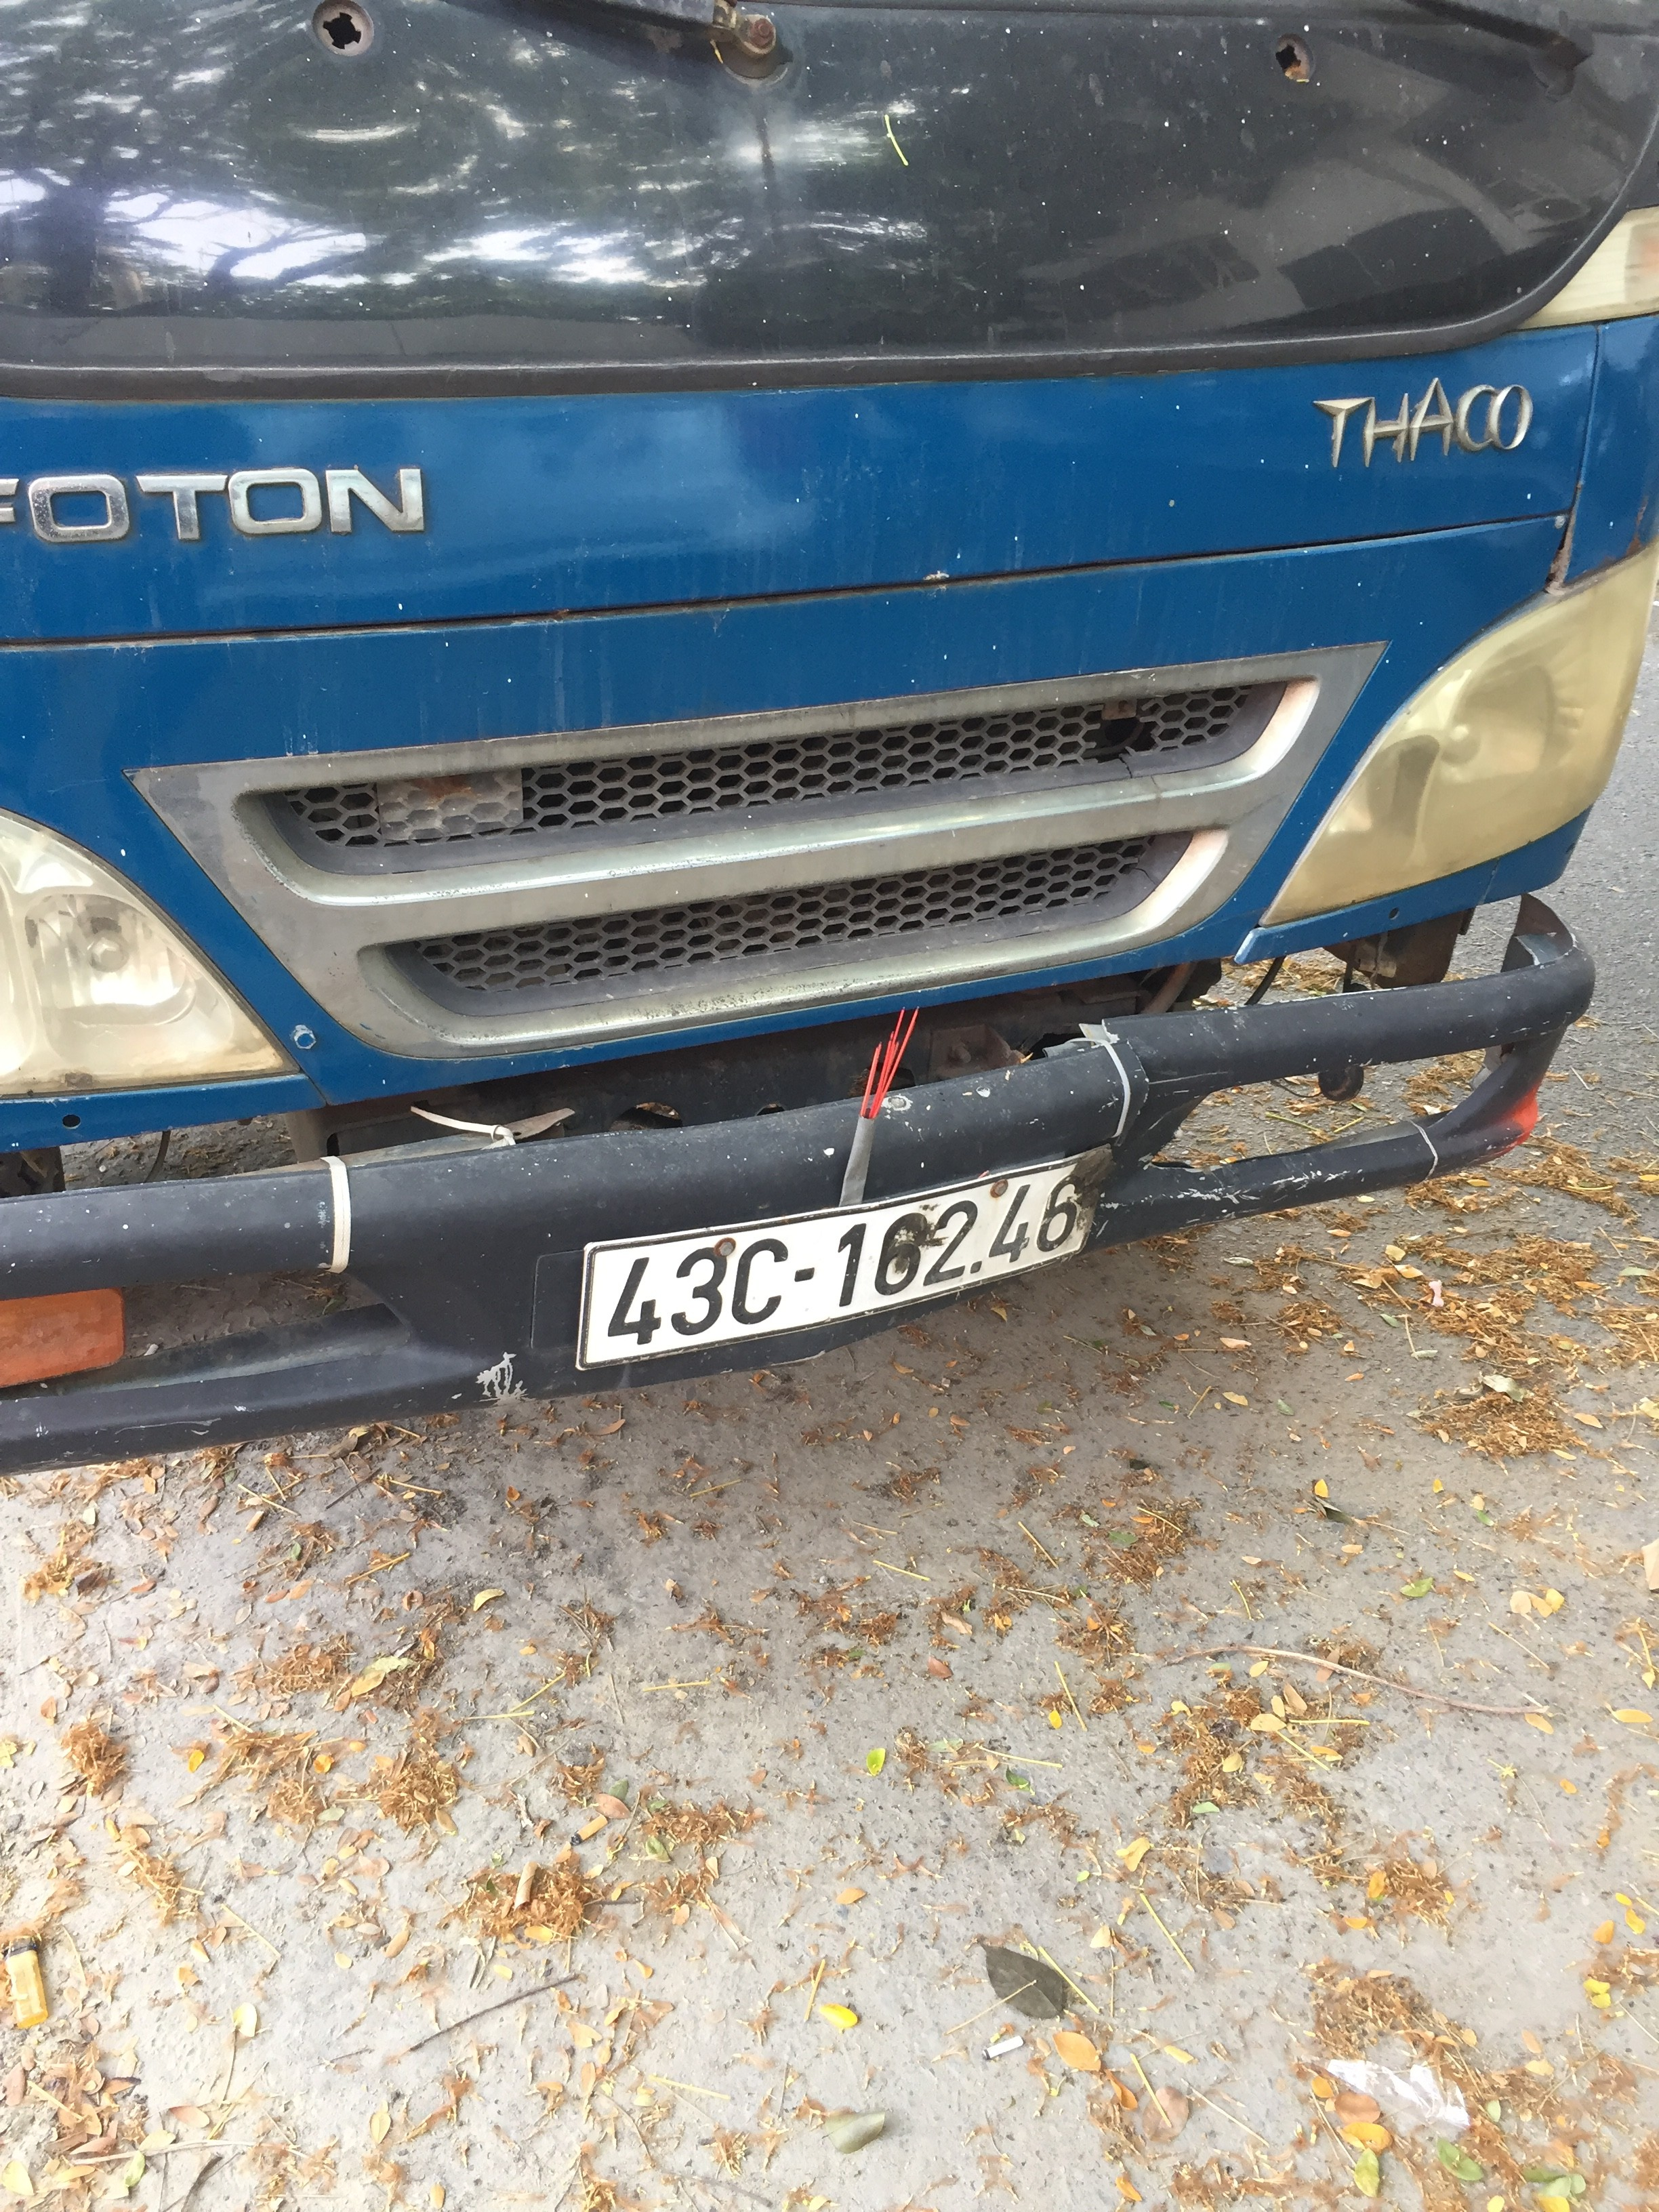plate: (542, 813, 1659, 1287), (594, 1172, 1082, 1341)
